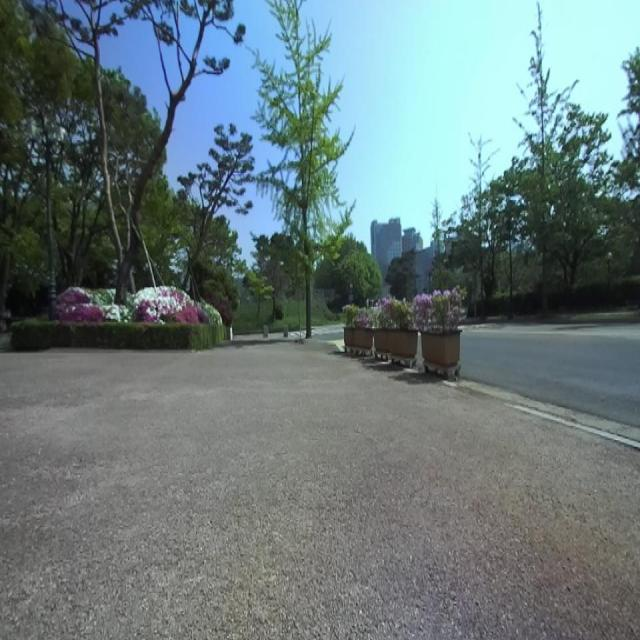sidewalk: (0, 338, 640, 640)
